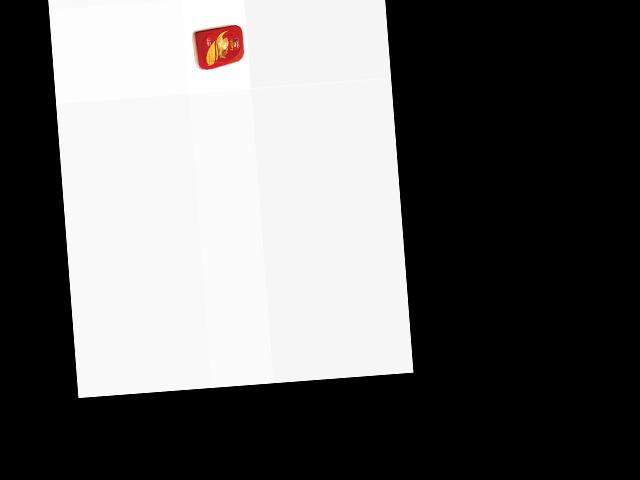cheese: (191, 22, 248, 70)
